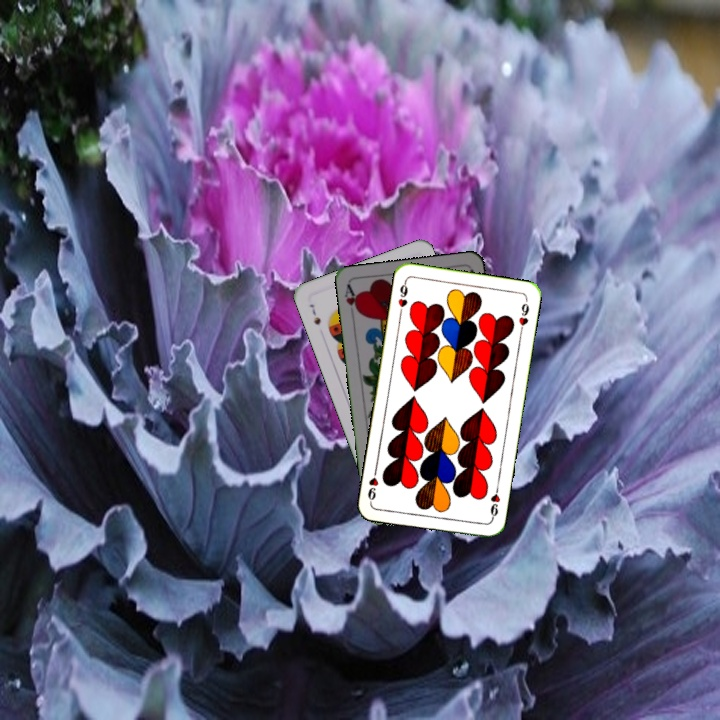H9: (486, 482, 503, 523), (394, 277, 410, 318)
HA: (341, 281, 363, 317)
S7: (305, 300, 323, 328)
